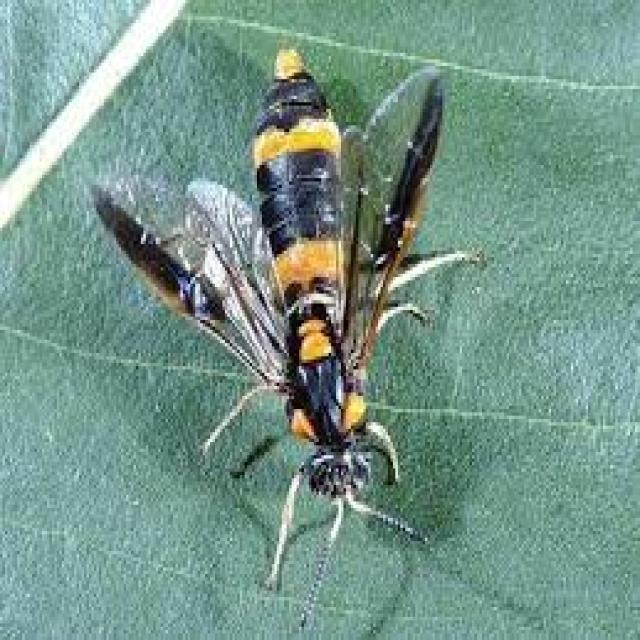Saw Fly: (86, 41, 486, 627)
